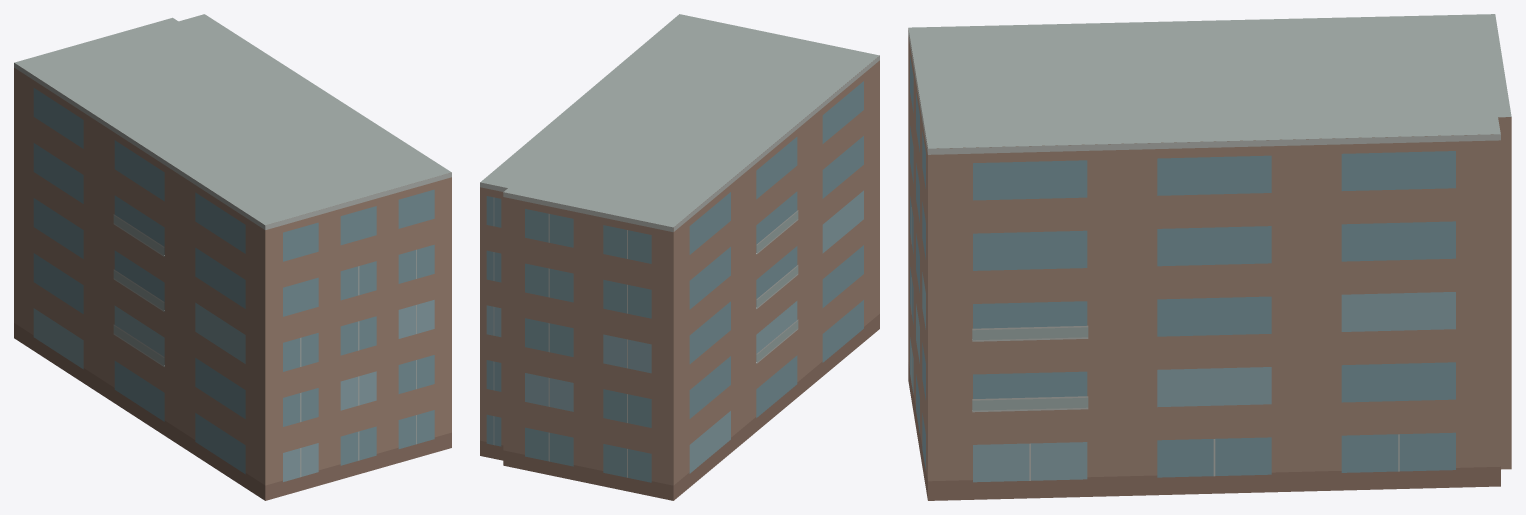
Rendered from survey-upis-32924813.glb.
The picture shows the model from 3 angles, left to right: view 1: azimuth 30°, elevation 25°; view 2: azimuth 150°, elevation 25°; view 3: azimuth 270°, elevation 25°; orthographic projection. The views are drawn at different scales.
Parts seen in each view (by area): view 1: survey-upis-32924813.tmp; view 2: survey-upis-32924813.tmp; view 3: survey-upis-32924813.tmp.
Part boxes in pixels (box(x1,y1,x2,y2)): survey-upis-32924813.tmp: box(14, 14, 451, 500); survey-upis-32924813.tmp: box(480, 14, 879, 500); survey-upis-32924813.tmp: box(908, 14, 1511, 500).
Size of the model in its own units: 11.32 by 13.8 by 21.43.
